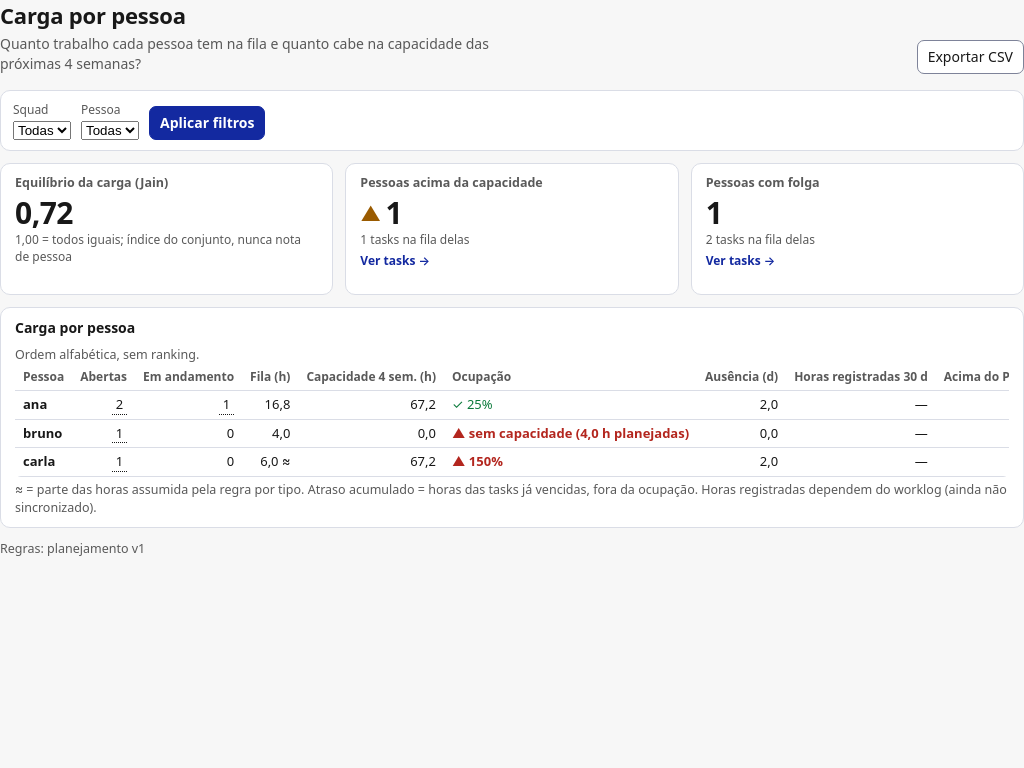
Scenario: tela Carga por pessoa › kpiAcimaAbreAsTasksNaFila
Click the button named "Pessoas acima da capacidade": (415, 240) [360,196,664,270]
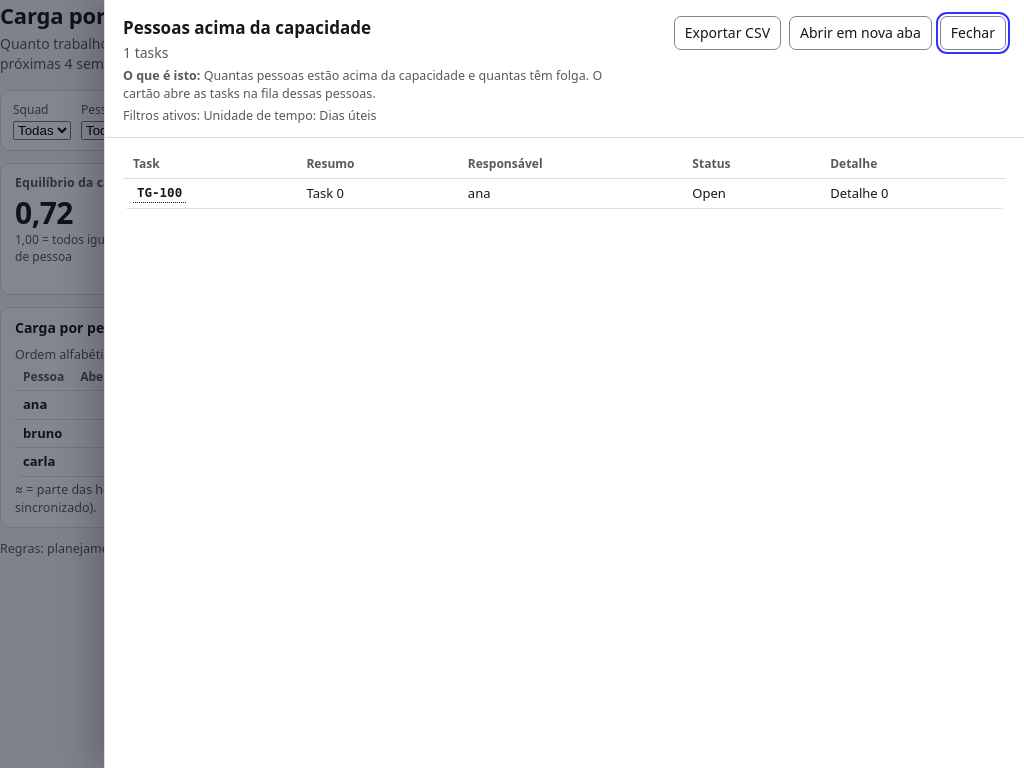
Result: the dialog is shown
